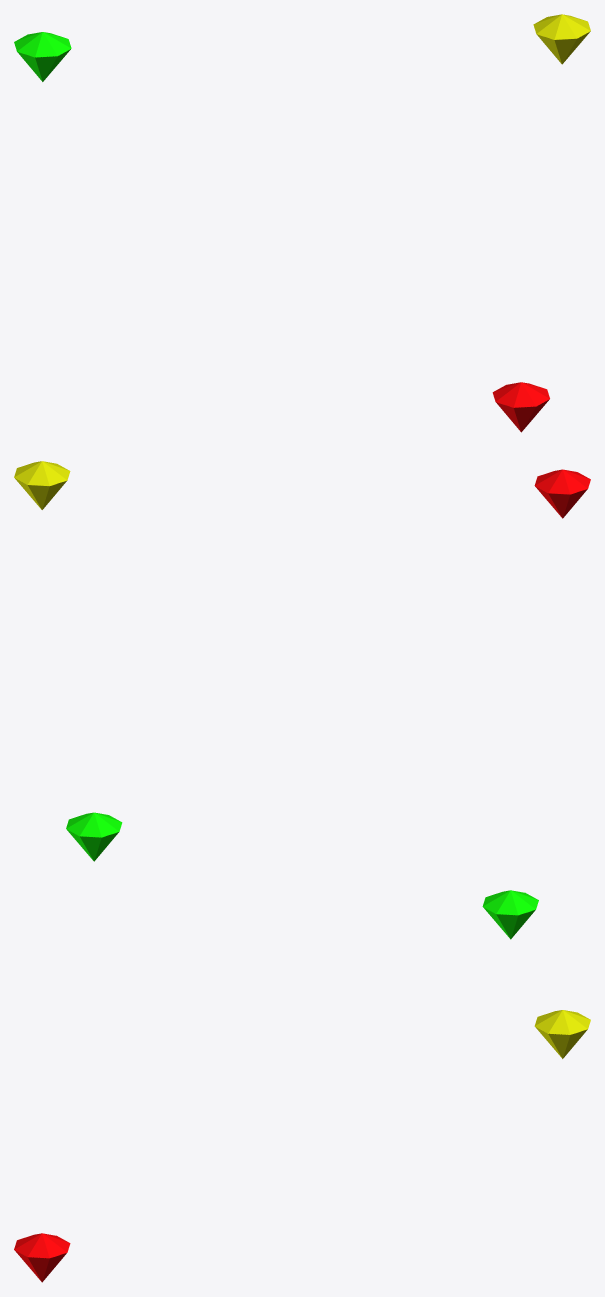
The model's file is freihaus_v0_7_knowledge.dae.
3 renders of one model, top to bottom at view 1: azimuth 30°, elevation 25°; view 2: azimuth 150°, elevation 25°; view 3: azimuth 330°, elevation 25°, orthographic. The views are drawn at different scales.
Parts seen in each view (by area): view 1: Cone_002, Cone_001, Cone; view 2: Cone, Cone_002, Cone_001; view 3: Cone_002, Cone, Cone_001.
Part boxes in pixels (x1,y1,x2,y2): Cone_002: (492,382,549,432); Cone_001: (533,14,590,64); Cone: (14,32,71,81); Cone: (66,812,122,861); Cone_002: (534,469,590,518); Cone_001: (14,461,70,509); Cone_002: (14,1233,70,1282); Cone: (482,890,538,939); Cone_001: (534,1010,590,1058).
Bounding box in the file's own units: 13.08 × 34.09 × 6.24.
